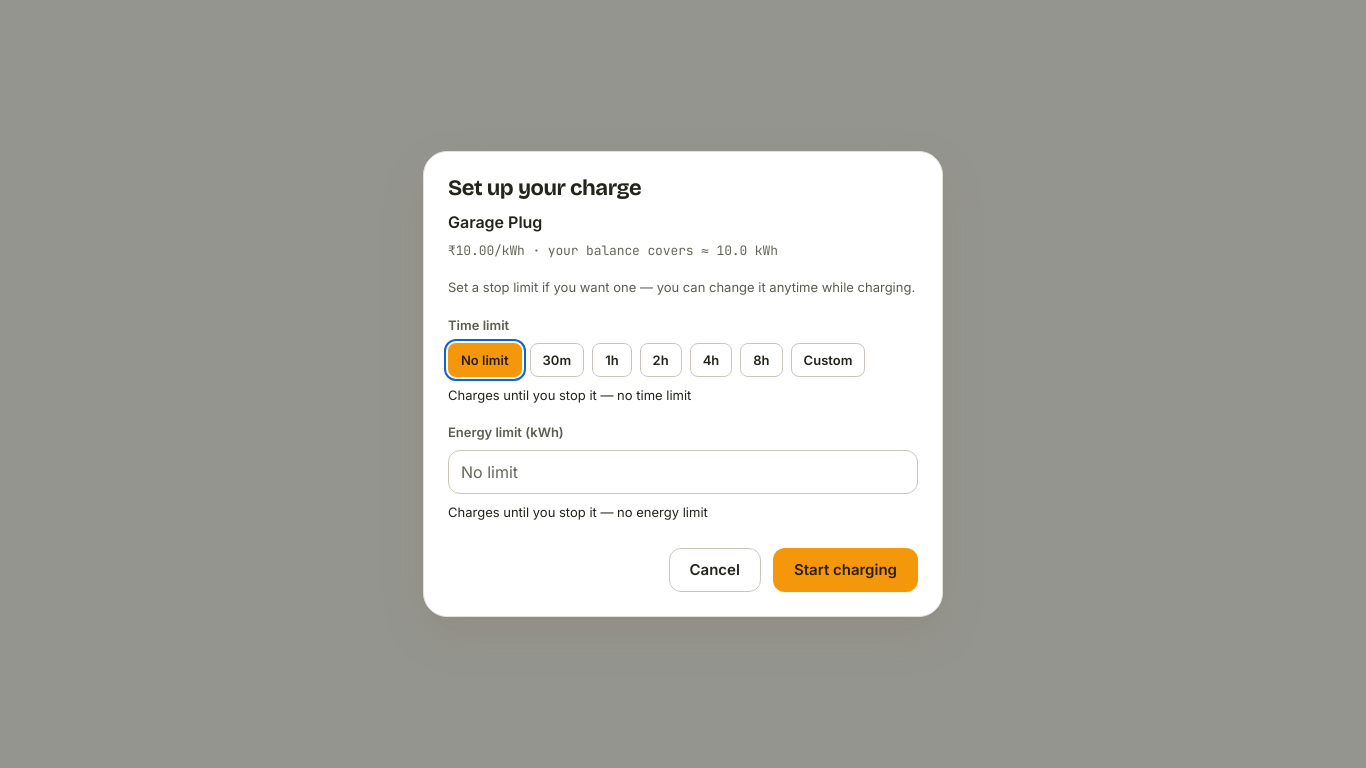
Test case: ChargeSetupModal — failures › circuit_full offers "Ask for capacity" which posts request-capacity
Step 1. Click the button "Start charging" → (845, 570), box [773,548,918,592]
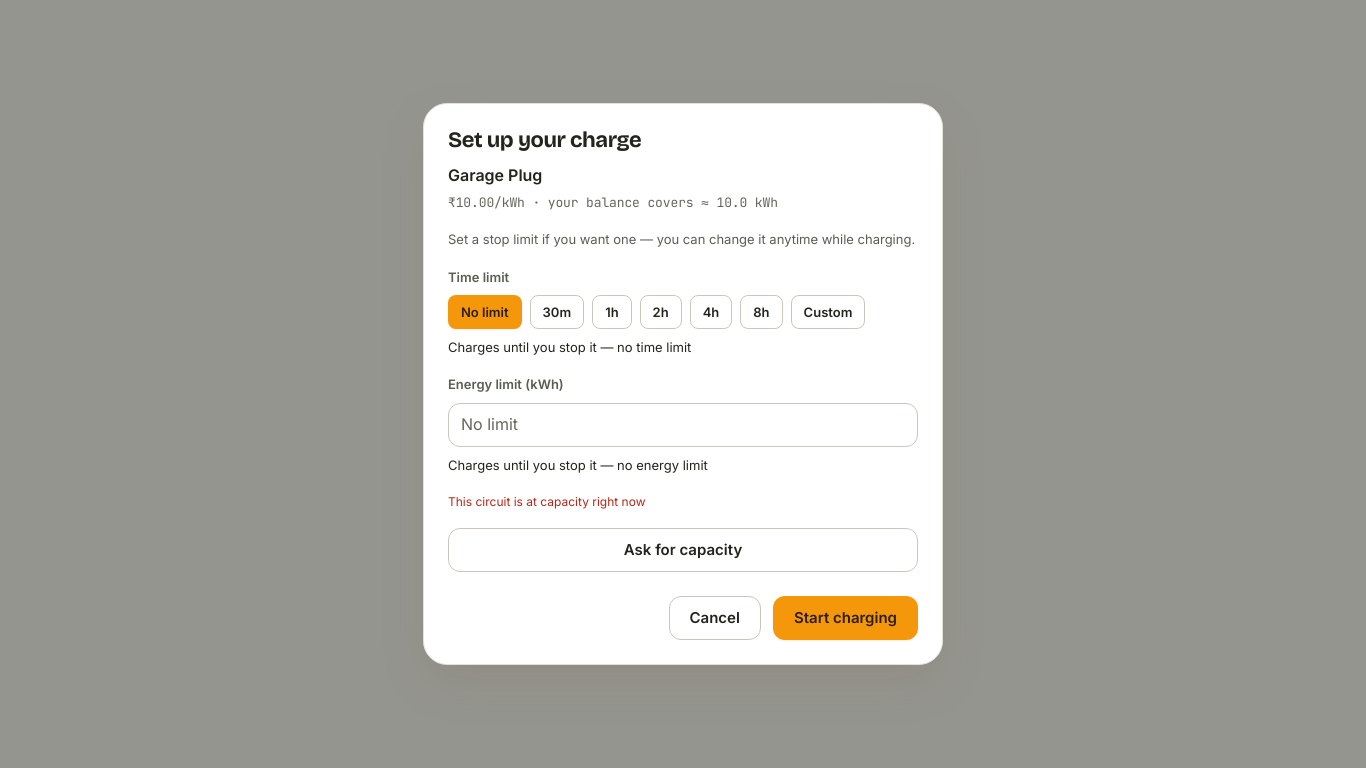
Expected: the text "This circuit is at capacity right now" is shown, [448,494,646,509]
Step 2. Click the button "Ask for capacity" → (683, 550), box [448,528,918,572]
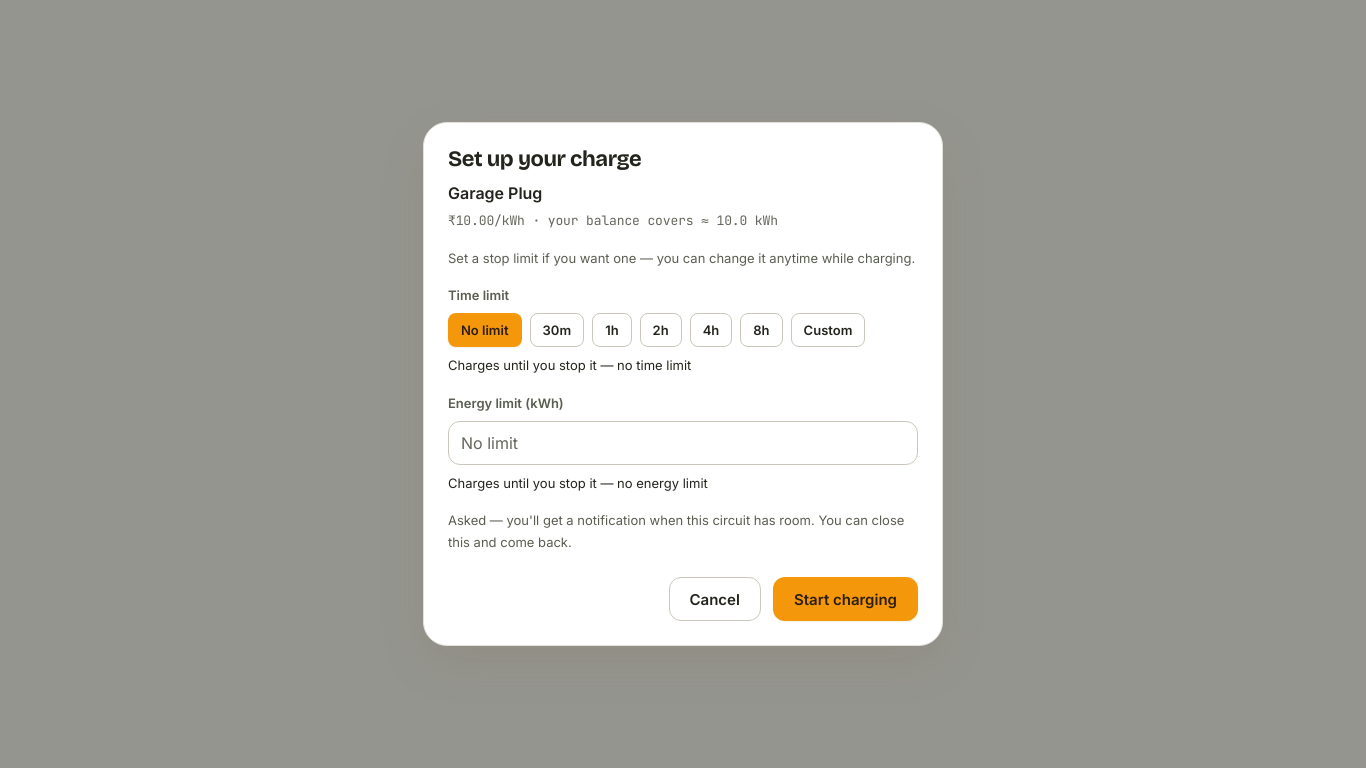
Expected: the text "you'll get a notification when this circuit has room" is shown, [448,512,904,550]
Expected: the button "Ask for capacity" is gone
